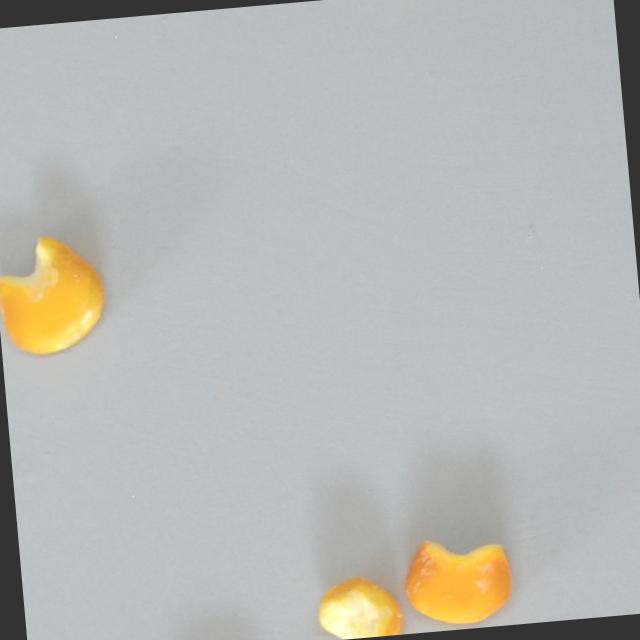no_canjicado: (0, 229, 109, 357)
pelicula: (399, 530, 514, 628), (314, 571, 404, 640)
